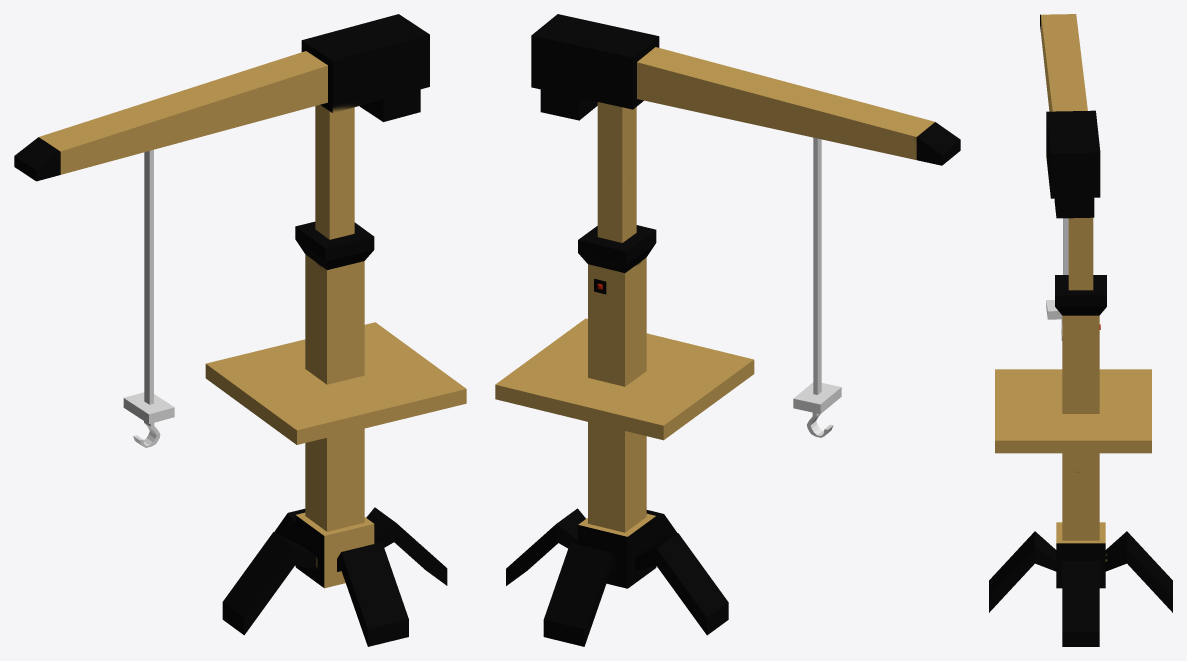
The model's file is Complete_Crane.fbx.
The picture shows the model from 3 angles, left to right: view 1: azimuth 30°, elevation 25°; view 2: azimuth 150°, elevation 25°; view 3: azimuth 270°, elevation 25°; orthographic projection. The views are drawn at different scales.
Visible parts, largest first — view 1: Cube.152, Cube.153, Cube.154, Cube.155; view 2: Cube.152, Cube.153, Cube.154, Cube.155; view 3: Cube.152, Cube.154, Cube.153, Cube.155.
Part boxes in pixels (x1,y1,x2,y2): Cube.152: (222, 105, 447, 646); Cube.153: (14, 14, 429, 181); Cube.154: (205, 322, 466, 444); Cube.155: (123, 149, 174, 447); Cube.152: (506, 102, 728, 646); Cube.153: (531, 14, 960, 165); Cube.154: (495, 318, 754, 440); Cube.155: (793, 137, 841, 437); Cube.152: (989, 217, 1172, 646); Cube.154: (995, 369, 1151, 453); Cube.153: (1040, 14, 1100, 218); Cube.155: (1046, 218, 1068, 340).
Bounding box in the file's own units: 1702 × 2149 × 741.
Materials: 5 (4 with a texture image).
